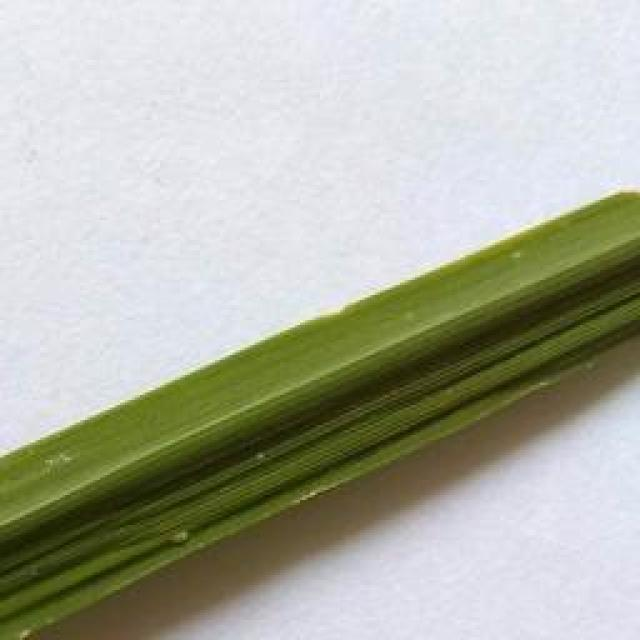Healthy-Plant: (0, 333, 369, 636), (378, 185, 640, 455)
